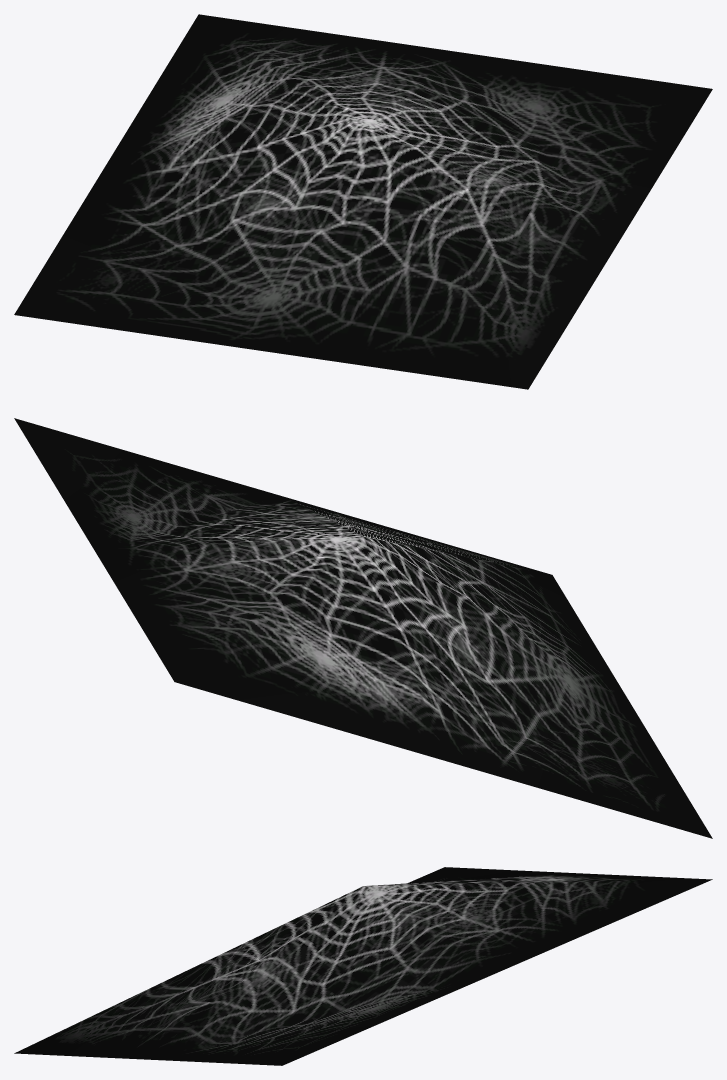
The model's file is MIRKWOOD_PLANE33.fbx.
3 renders of one model, top to bottom at view 1: azimuth 30°, elevation 25°; view 2: azimuth 150°, elevation 25°; view 3: azimuth 270°, elevation 25°, orthographic. The views are drawn at different scales.
Parts seen in each view (by area): view 1: MIRKWOOD_PLANE33; view 2: MIRKWOOD_PLANE33; view 3: MIRKWOOD_PLANE33.
Part boxes in pixels (left/top/right/bottom): MIRKWOOD_PLANE33: left=14, top=14, right=712, bottom=389; MIRKWOOD_PLANE33: left=14, top=418, right=712, bottom=838; MIRKWOOD_PLANE33: left=14, top=867, right=712, bottom=1065.
Bounding box in the file's own units: 148966 × 33889 × 129557.
Materials: 1 (1 with a texture image).
